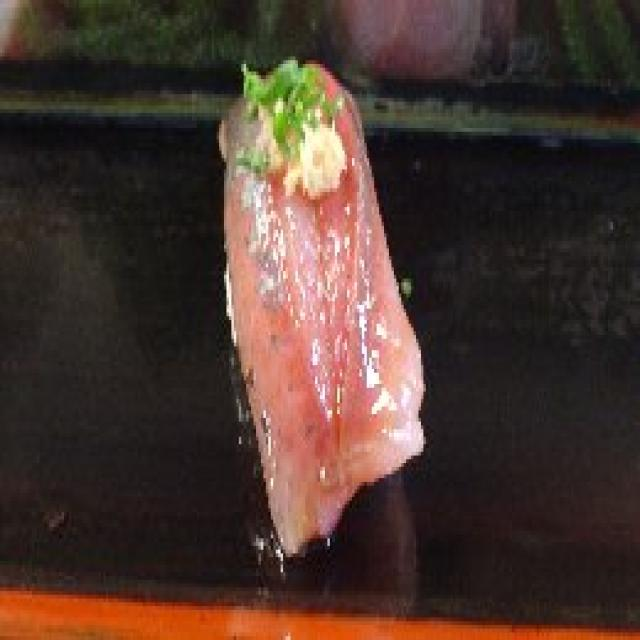寿司卷物: (194, 45, 433, 569)
